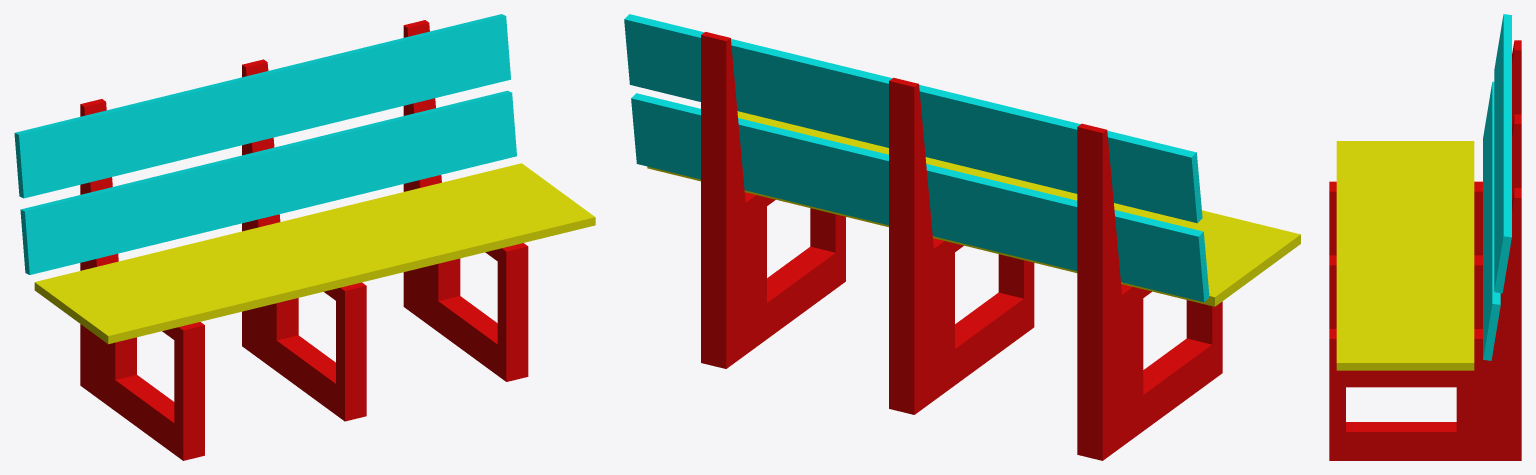
The model's file is bench_uvready.fbx.
The picture shows the model from 3 angles, left to right: view 1: azimuth 30°, elevation 25°; view 2: azimuth 150°, elevation 25°; view 3: azimuth 270°, elevation 25°; orthographic projection. The views are drawn at different scales.
Parts seen in each view (by area): view 1: Box003; view 2: Box003; view 3: Box003.
Part boxes in pixels (x1,y1,x2,y2): Box003: (14, 14, 595, 460); Box003: (624, 14, 1300, 460); Box003: (1329, 14, 1521, 460).
Size of the model in its own units: 618 by 341 by 226.
